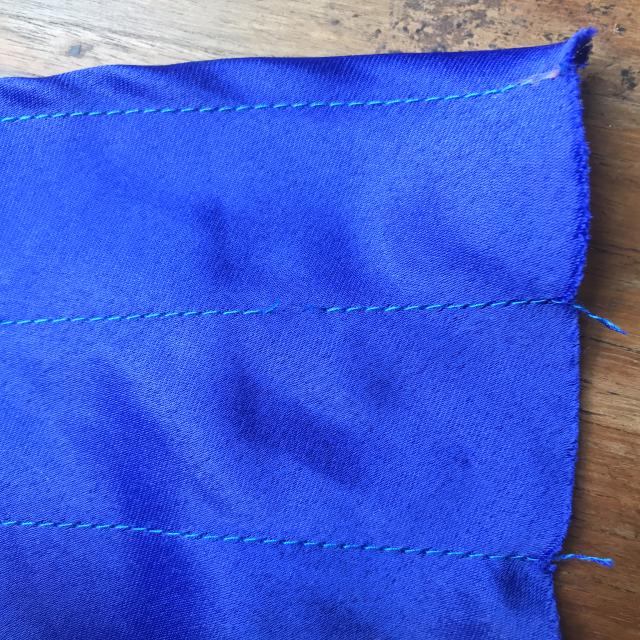broken: (237, 284, 389, 342)
good: (283, 517, 448, 579), (204, 89, 362, 128)
